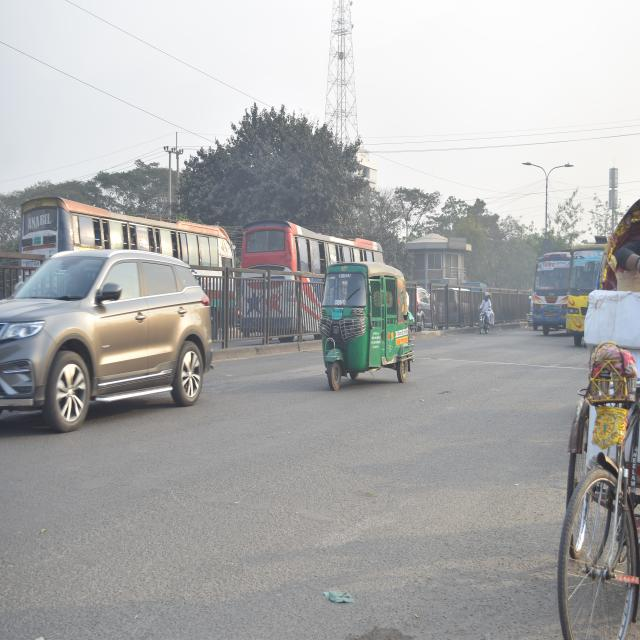bus: (566, 241, 606, 335), (530, 250, 568, 344)
car: (0, 242, 218, 443)
motorbike: (471, 292, 493, 344)
